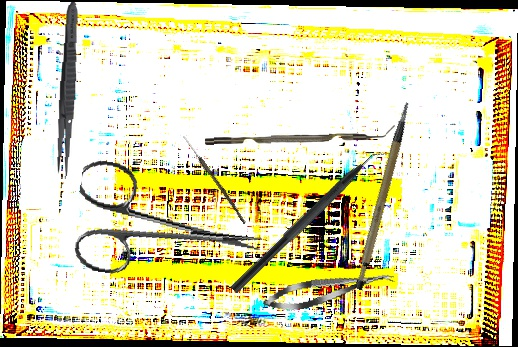Chopper: (229, 138, 396, 305), (204, 125, 396, 145)
Dressing Forceps: (54, 1, 82, 180)
Iris Scissors: (67, 157, 271, 297)
Micro Scissor: (260, 263, 397, 317)
Scalpel Handle: (330, 101, 439, 292)
Surgical Spoon: (181, 134, 248, 225)
